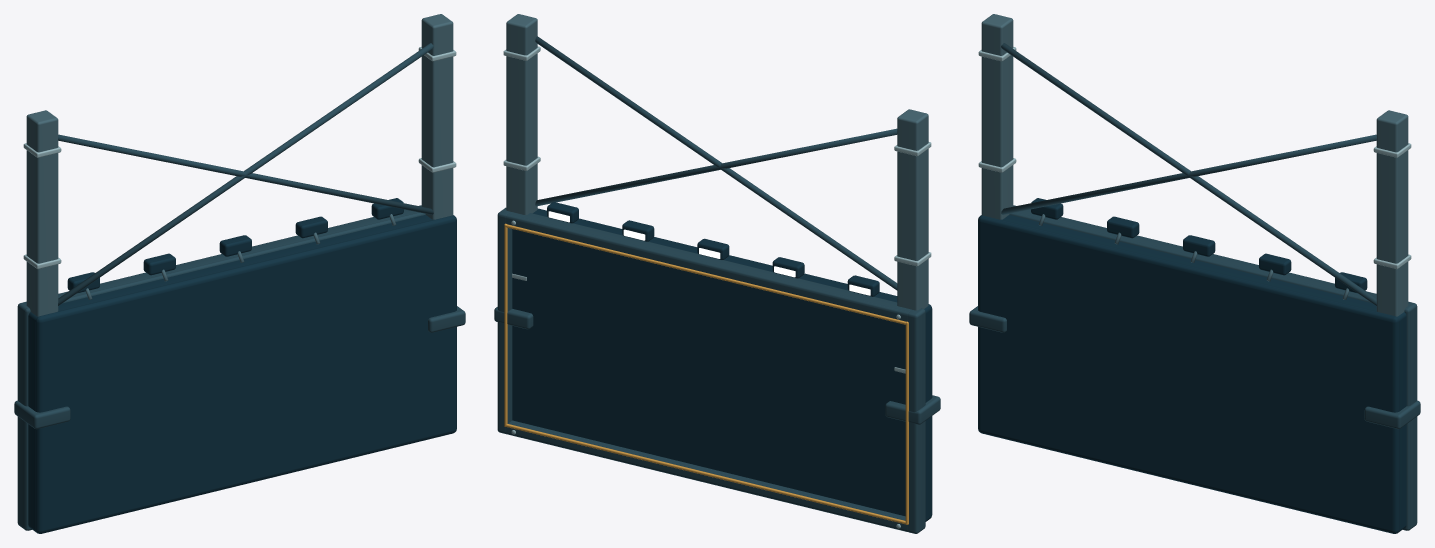
Rendered from scoreboard.glb.
The picture shows the model from 3 angles, left to right: view 1: azimuth 30°, elevation 25°; view 2: azimuth 150°, elevation 25°; view 3: azimuth 330°, elevation 25°; orthographic projection.
Parts seen in each view (by area): view 1: scoreboard.Moving.metal, scoreboard.Static.metal; view 2: scoreboard.Moving.metal, scoreboard.Static.metal, scoreboard.Moving.lens; view 3: scoreboard.Moving.metal, scoreboard.Static.metal.
Part boxes in pixels (box(x1,y1,x2,y2)): scoreboard.Moving.metal: box(17, 198, 456, 533); scoreboard.Static.metal: box(14, 14, 465, 429); scoreboard.Moving.metal: box(497, 202, 932, 533); scoreboard.Static.metal: box(494, 14, 940, 424); scoreboard.Moving.lens: box(548, 211, 870, 295); scoreboard.Moving.metal: box(978, 198, 1417, 533); scoreboard.Static.metal: box(969, 14, 1420, 429).
Bounding box in the file's own units: 28.4 × 26 × 2.62.
